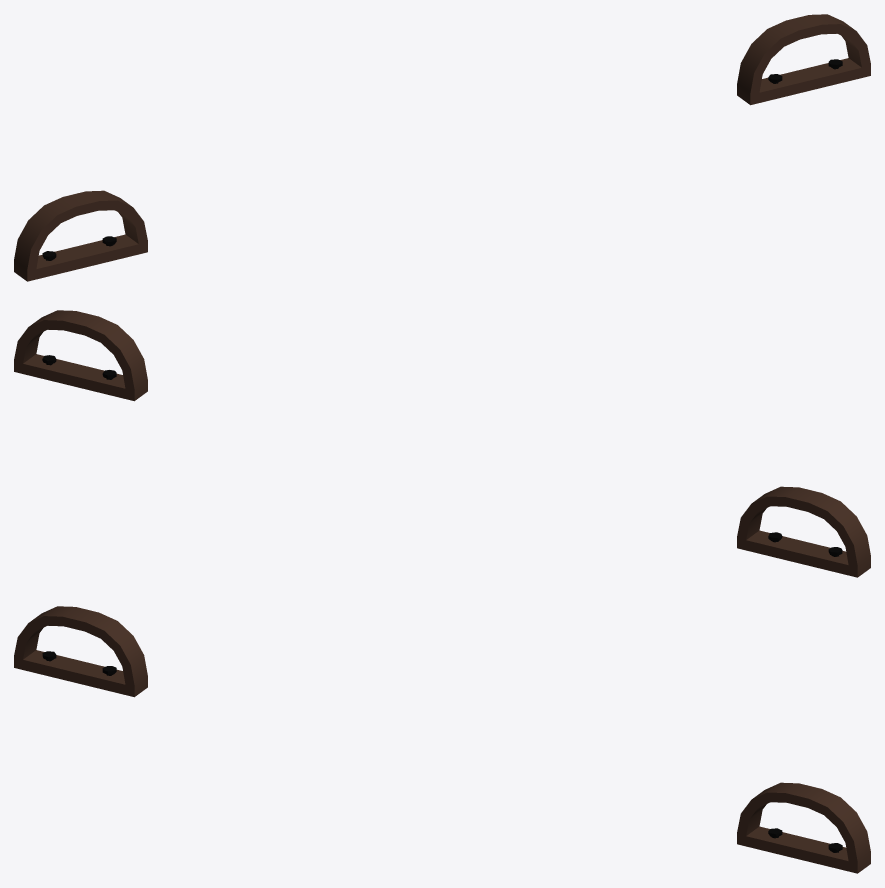
Rendered from SM_Punhal_Guardacorpo.fbx.
The picture shows the model from 3 angles, top to bottom: view 1: azimuth 30°, elevation 25°; view 2: azimuth 150°, elevation 25°; view 3: azimuth 330°, elevation 25°; orthographic projection.
Parts seen in each view (by area): view 1: punhal2, punhal1; view 2: punhal2, punhal1; view 3: punhal1, punhal2.
Boxes of the visible parts, x1,y1,x2,y2 form: punhal2: (14, 190, 147, 281); punhal1: (737, 14, 870, 105); punhal2: (737, 486, 870, 577); punhal1: (14, 310, 147, 401); punhal1: (737, 782, 870, 873); punhal2: (14, 606, 147, 697).
Size of the model in its own units: 1.4 by 0.0383 by 0.1.
